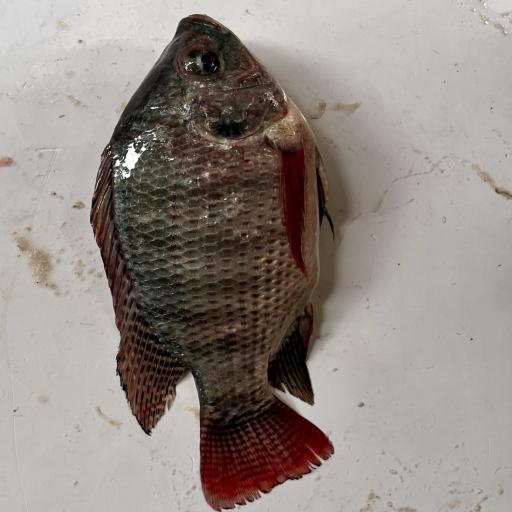Tilapia: (90, 14, 335, 512)
